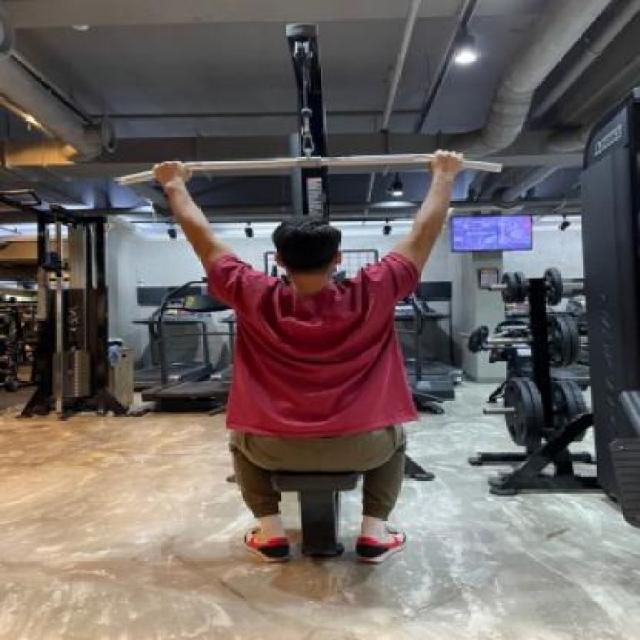Lat Pull Down: (78, 0, 518, 598)
